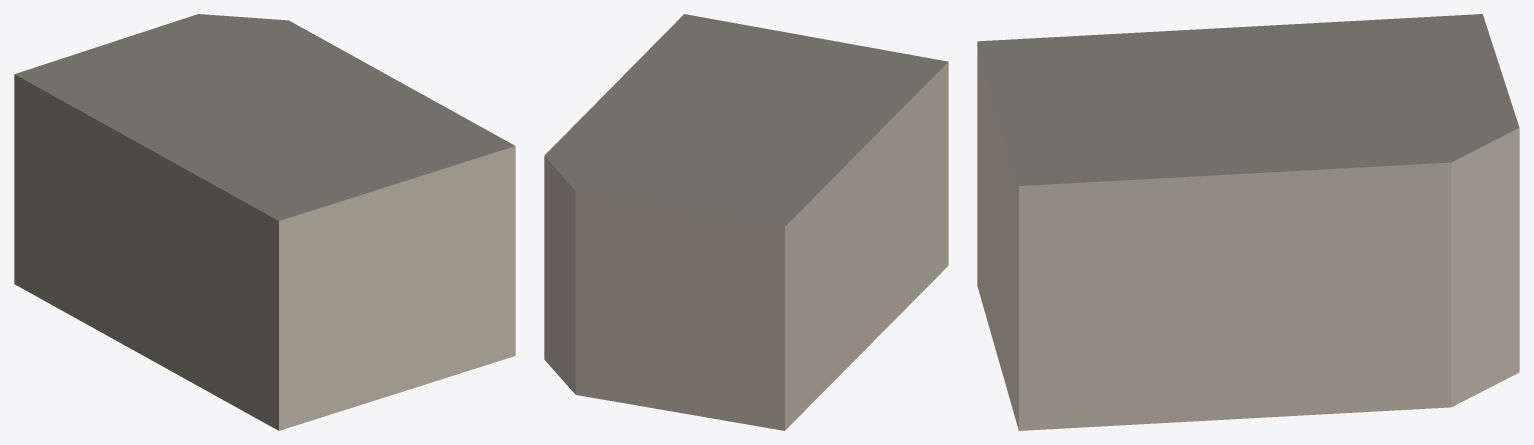
3 views of the same model, side by side, from view 1: azimuth 30°, elevation 25°; view 2: azimuth 150°, elevation 25°; view 3: azimuth 270°, elevation 25° (orthographic). The views are drawn at different scales.
Parts seen in each view (by area): view 1: HP-w446934760; view 2: HP-w446934760; view 3: HP-w446934760.
Part boxes in pixels (bbox=[...]): HP-w446934760: bbox=[14, 14, 515, 430]; HP-w446934760: bbox=[544, 14, 948, 430]; HP-w446934760: bbox=[977, 14, 1519, 430].
Bounding box in the file's own units: 27.14 × 18 × 36.11.
